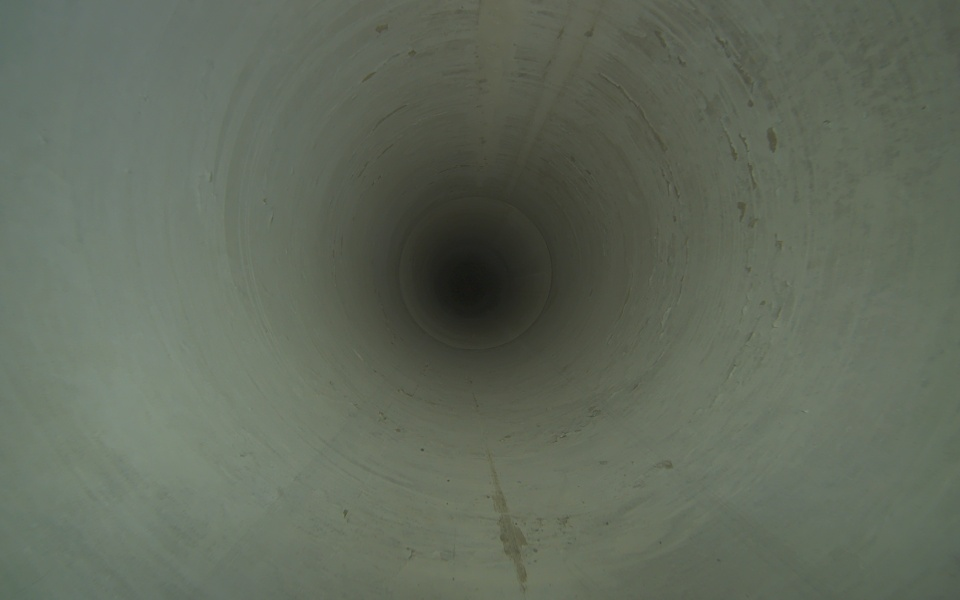circle1: (394, 190, 556, 356), (556, 274, 558, 275)
circle2: (451, 267, 487, 303)
